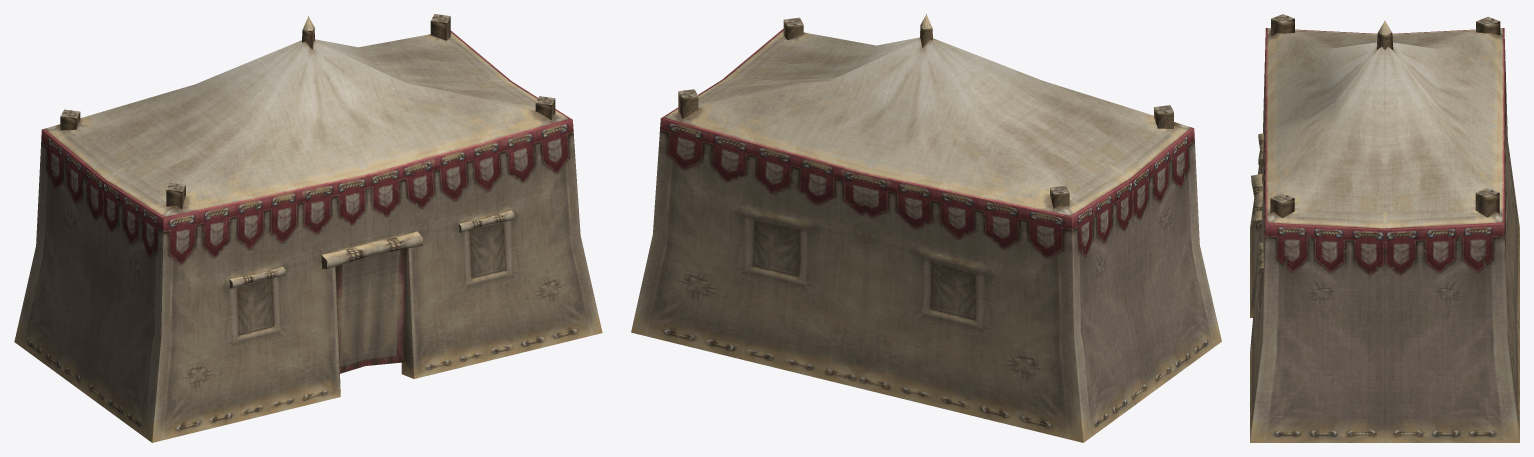
Rendered from SC_tamalagebi_36.FBX.
The picture shows the model from 3 angles, left to right: view 1: azimuth 30°, elevation 25°; view 2: azimuth 150°, elevation 25°; view 3: azimuth 270°, elevation 25°; orthographic projection. The views are drawn at different scales.
Visible parts, largest first — view 1: SC_tamalagebi_36; view 2: SC_tamalagebi_36; view 3: SC_tamalagebi_36.
Boxes of the visible parts, x1,y1,x2,y2 form: SC_tamalagebi_36: (14, 14, 602, 442); SC_tamalagebi_36: (631, 14, 1221, 442); SC_tamalagebi_36: (1250, 14, 1519, 442).
Bounding box in the file's own units: 919 × 627 × 487.
